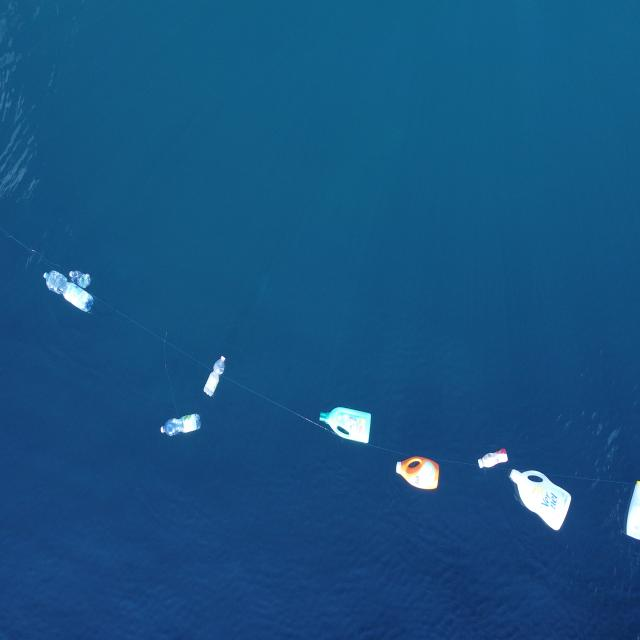bottles: (507, 465, 580, 542), (36, 258, 101, 322), (312, 395, 380, 450), (391, 450, 445, 499), (153, 408, 210, 443), (202, 348, 229, 403), (471, 444, 514, 471), (63, 265, 96, 292)
